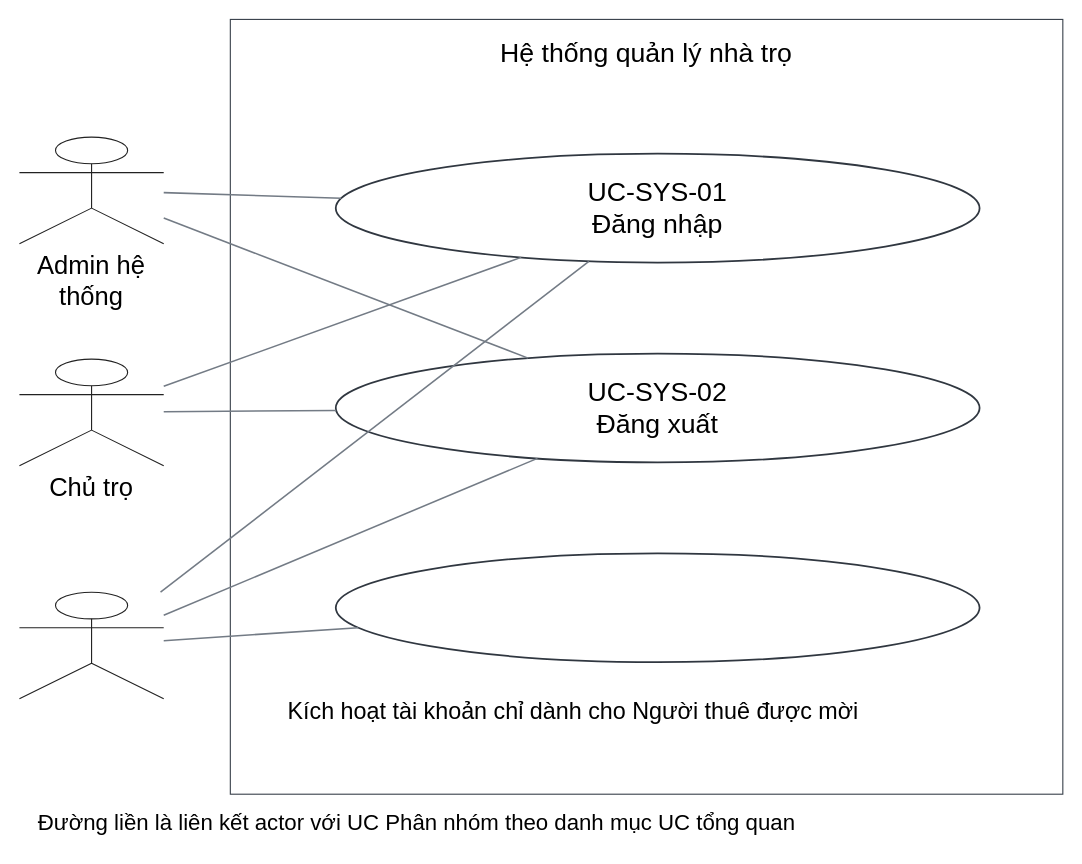
Some shapes in this 1082 by 864 pixel diagram are drawn without their labels. Each missing label, with the centre of its shape:
"Người thuê" goes at (x=91, y=645).
"UC-SYS-01.01 Kích hoạt tài khoản người thuê từ lời mời" goes at (x=657, y=607).
